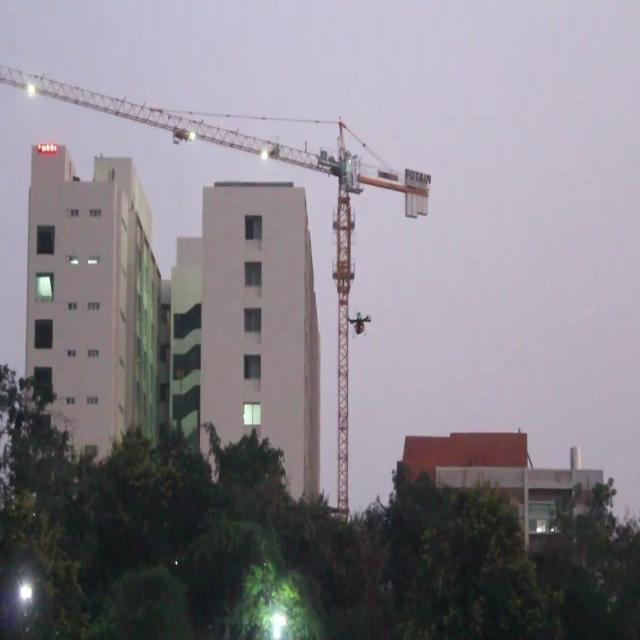drone: (345, 312, 374, 341)
